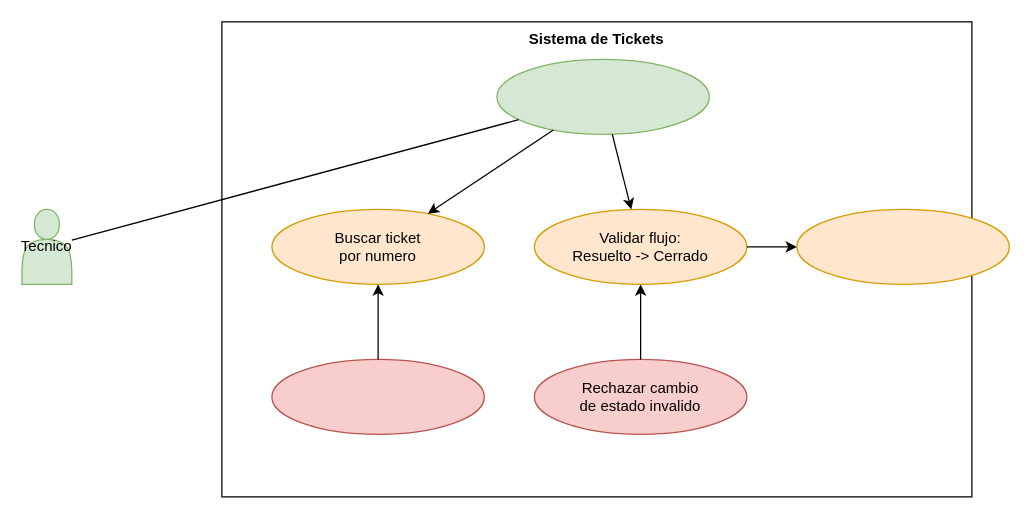
This 1031x519 diagram has some shape labels left out. The shapes that lost their labels are listed below. From the top down, each one's centre as x and y in pixels, then its label:
At [602,96]: "Cerrar ticket".
At [902,246]: "Registrar cierre en bitacora".
At [377,396]: "Notificar ticket no encontrado".
